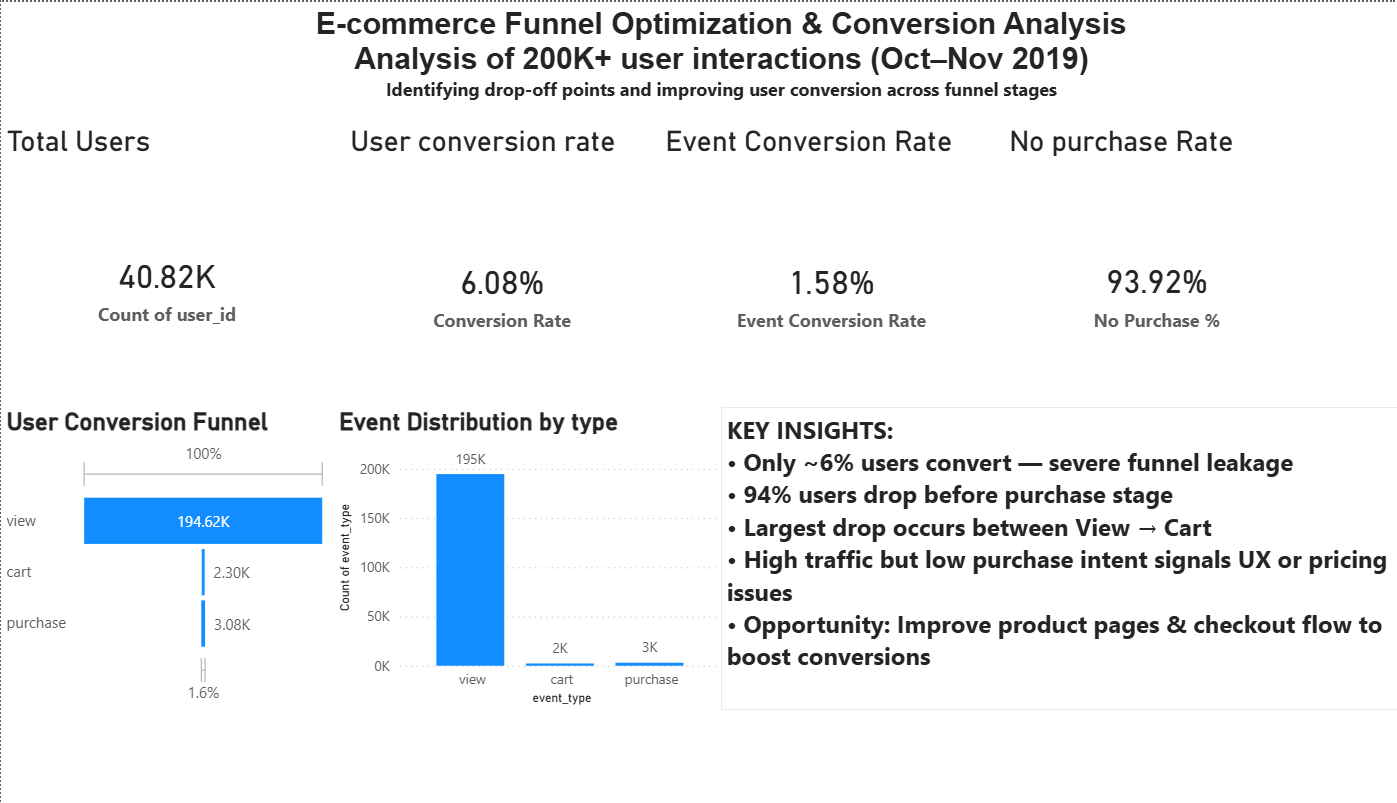

What the dashboard file says about the page in this screenshot:
{"tool":"powerbi","page":{"name":"Page 1","canvas":[1280,720],"ordinal":0},"visuals":[{"type":"card","title":"Total Users","fields":{"Values":["Count(final_data.user_id)"]},"box":[0,108.6,295.7,260],"z":0},{"type":"card","title":"User conversion rate","fields":{"Values":["final_data.Conversion Rate"]},"box":[305.7,108.6,280,271.4],"z":1000},{"type":"card","title":"Event Conversion Rate","fields":{"Values":["final_data.Event Conversion Rate"]},"box":[585.7,108.6,305.7,271.4],"z":2000},{"type":"card","title":"No purchase Rate","fields":{"Values":["final_data.No Purchase %"]},"box":[891.4,108.6,272.9,270],"z":3000},{"type":"funnel","title":"User Conversion Funnel","fields":{"Category":["Stage Table.event_type"],"Y":["CountNonNull(final_data.event_type)"]},"box":[0,360,295.7,270],"z":4000},{"type":"clusteredColumnChart","title":"Event Distribution by type","fields":{"Category":["Stage Table.event_type"],"Y":["CountNonNull(final_data.event_type)"]},"box":[295.7,360,351.4,270],"z":5000},{"type":"textbox","box":[250.7,0,778.6,108.6],"z":6000},{"type":"textbox","box":[640,360,640,270],"z":7000}]}

Visuals, with their boxes in screenshot pixels (x1, y1, x2, y2), scaled from the page's 1280x720 canvas onto the 1397x803 screenshot:
"Total Users" card: <region>0, 121, 323, 411</region>
"User conversion rate" card: <region>334, 121, 639, 424</region>
"Event Conversion Rate" card: <region>639, 121, 973, 424</region>
"No purchase Rate" card: <region>973, 121, 1271, 422</region>
"User Conversion Funnel" funnel: <region>0, 402, 323, 703</region>
"Event Distribution by type" clusteredColumnChart: <region>323, 402, 706, 703</region>
textbox: <region>274, 0, 1123, 121</region>
textbox: <region>698, 402, 1396, 703</region>
